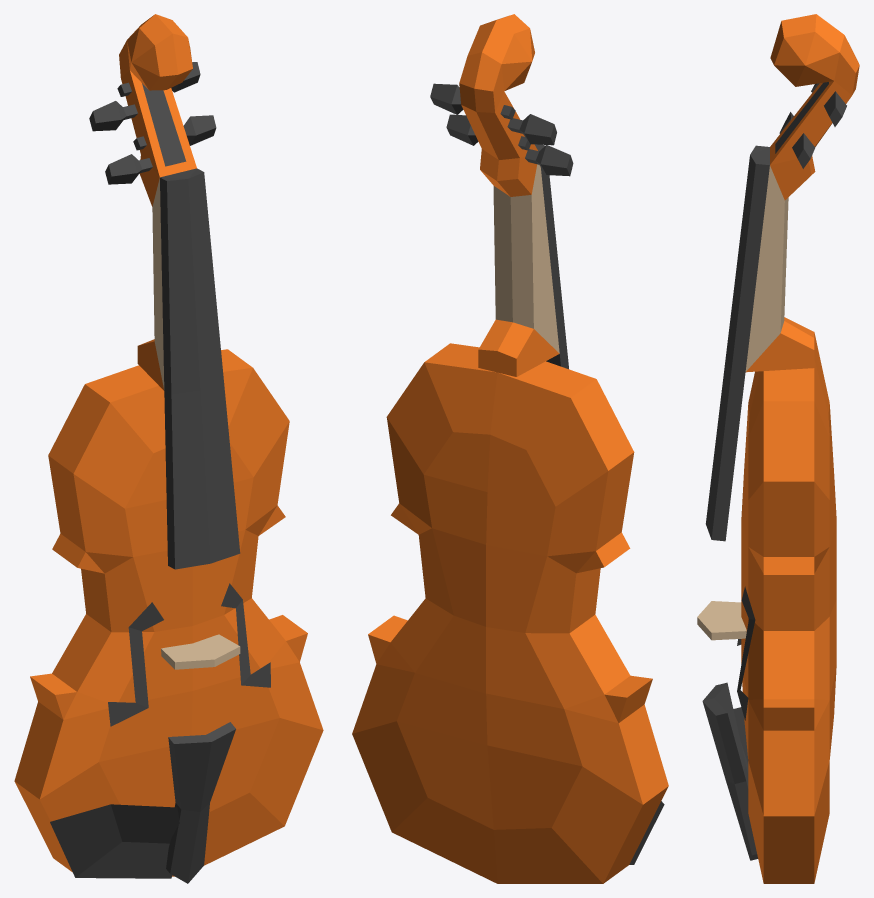
The model's file is violin.fbx.
3 renders of one model, left to right at view 1: azimuth 30°, elevation 25°; view 2: azimuth 150°, elevation 25°; view 3: azimuth 270°, elevation 25°, orthographic. The views are drawn at different scales.
Visible parts, largest first — view 1: violin; view 2: violin; view 3: violin.
Part boxes in pixels (left/top/right/bottom): violin: left=14, top=14, right=323, bottom=883; violin: left=352, top=14, right=668, bottom=883; violin: left=697, top=14, right=859, bottom=883.
Size of the model in its own units: 0.2163 by 0.6157 by 0.107.
